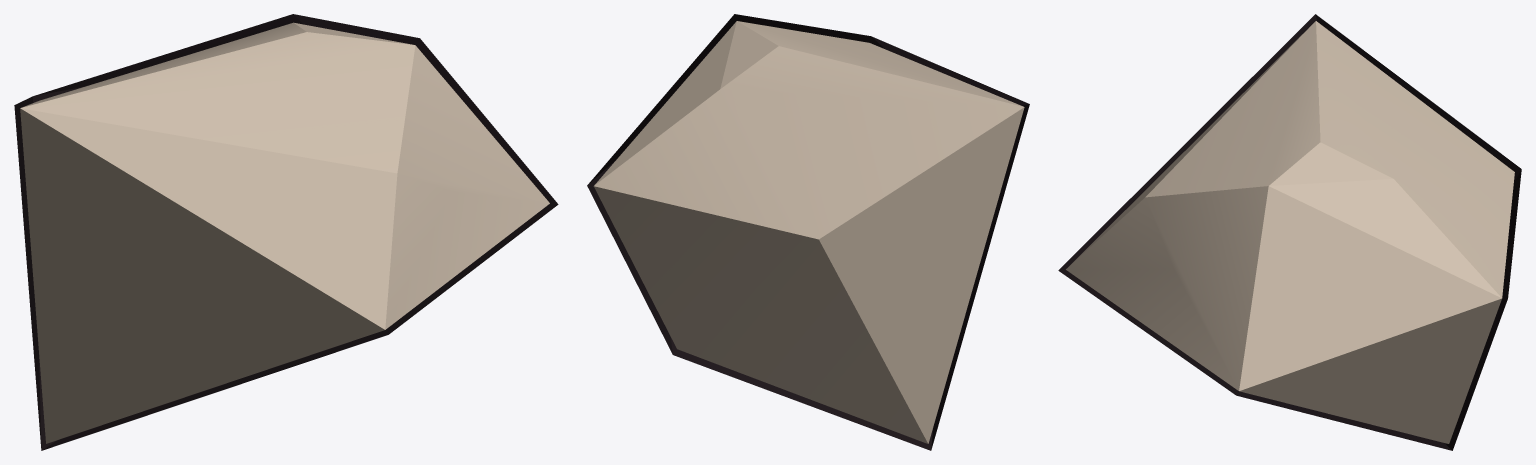
The model's file is SM_Mtn_Shard_01.fbx.
3 views of the same model, side by side, from view 1: azimuth 30°, elevation 25°; view 2: azimuth 150°, elevation 25°; view 3: azimuth 270°, elevation 25° (orthographic). The views are drawn at different scales.
Parts seen in each view (by area): view 1: SM_Mtn_Shard_01; view 2: SM_Mtn_Shard_01; view 3: SM_Mtn_Shard_01.
Boxes of the visible parts, <box> form: SM_Mtn_Shard_01: <box>14,14,558,450</box>; SM_Mtn_Shard_01: <box>587,14,1029,450</box>; SM_Mtn_Shard_01: <box>1058,14,1521,450</box>.
Size of the model in its own units: 4.65 by 3.59 by 4.23.
